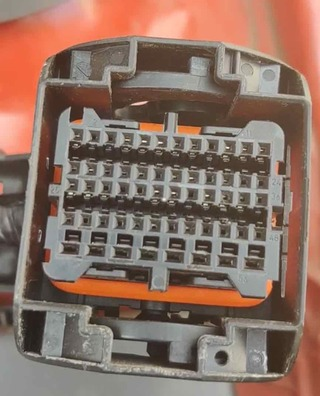connector: (12, 36, 312, 383)
